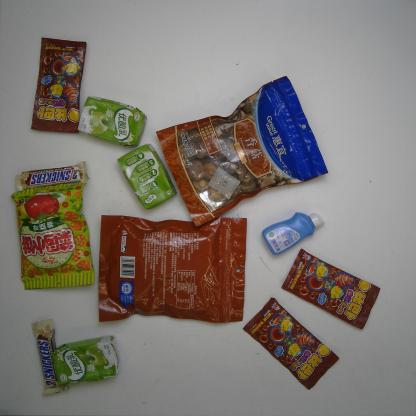Candy: (242, 297, 340, 392), (279, 246, 383, 332), (27, 36, 90, 135)
Chocolate: (29, 314, 68, 398), (13, 161, 91, 194)
Dried Food: (155, 76, 331, 224), (94, 211, 250, 324)
Milk: (119, 142, 175, 210), (50, 333, 119, 388), (76, 96, 148, 147)
Personal Hygiene: (263, 211, 324, 253)
Puffed Food: (11, 183, 102, 291)
